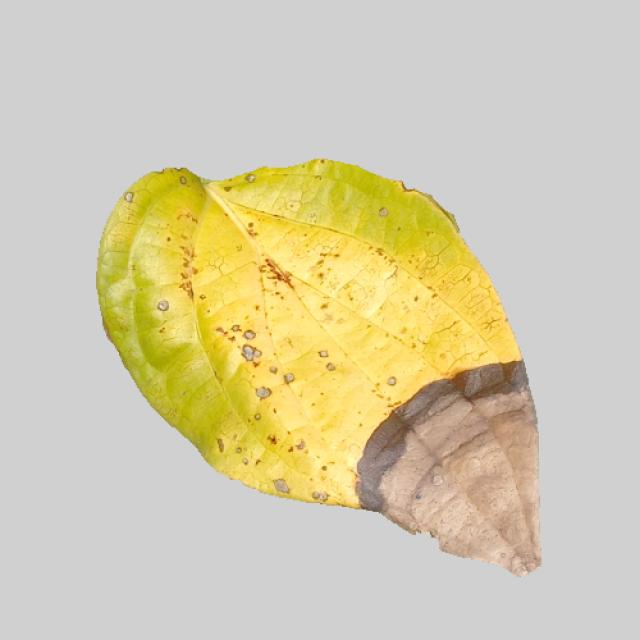leaf-blight: (84, 168, 536, 581)
